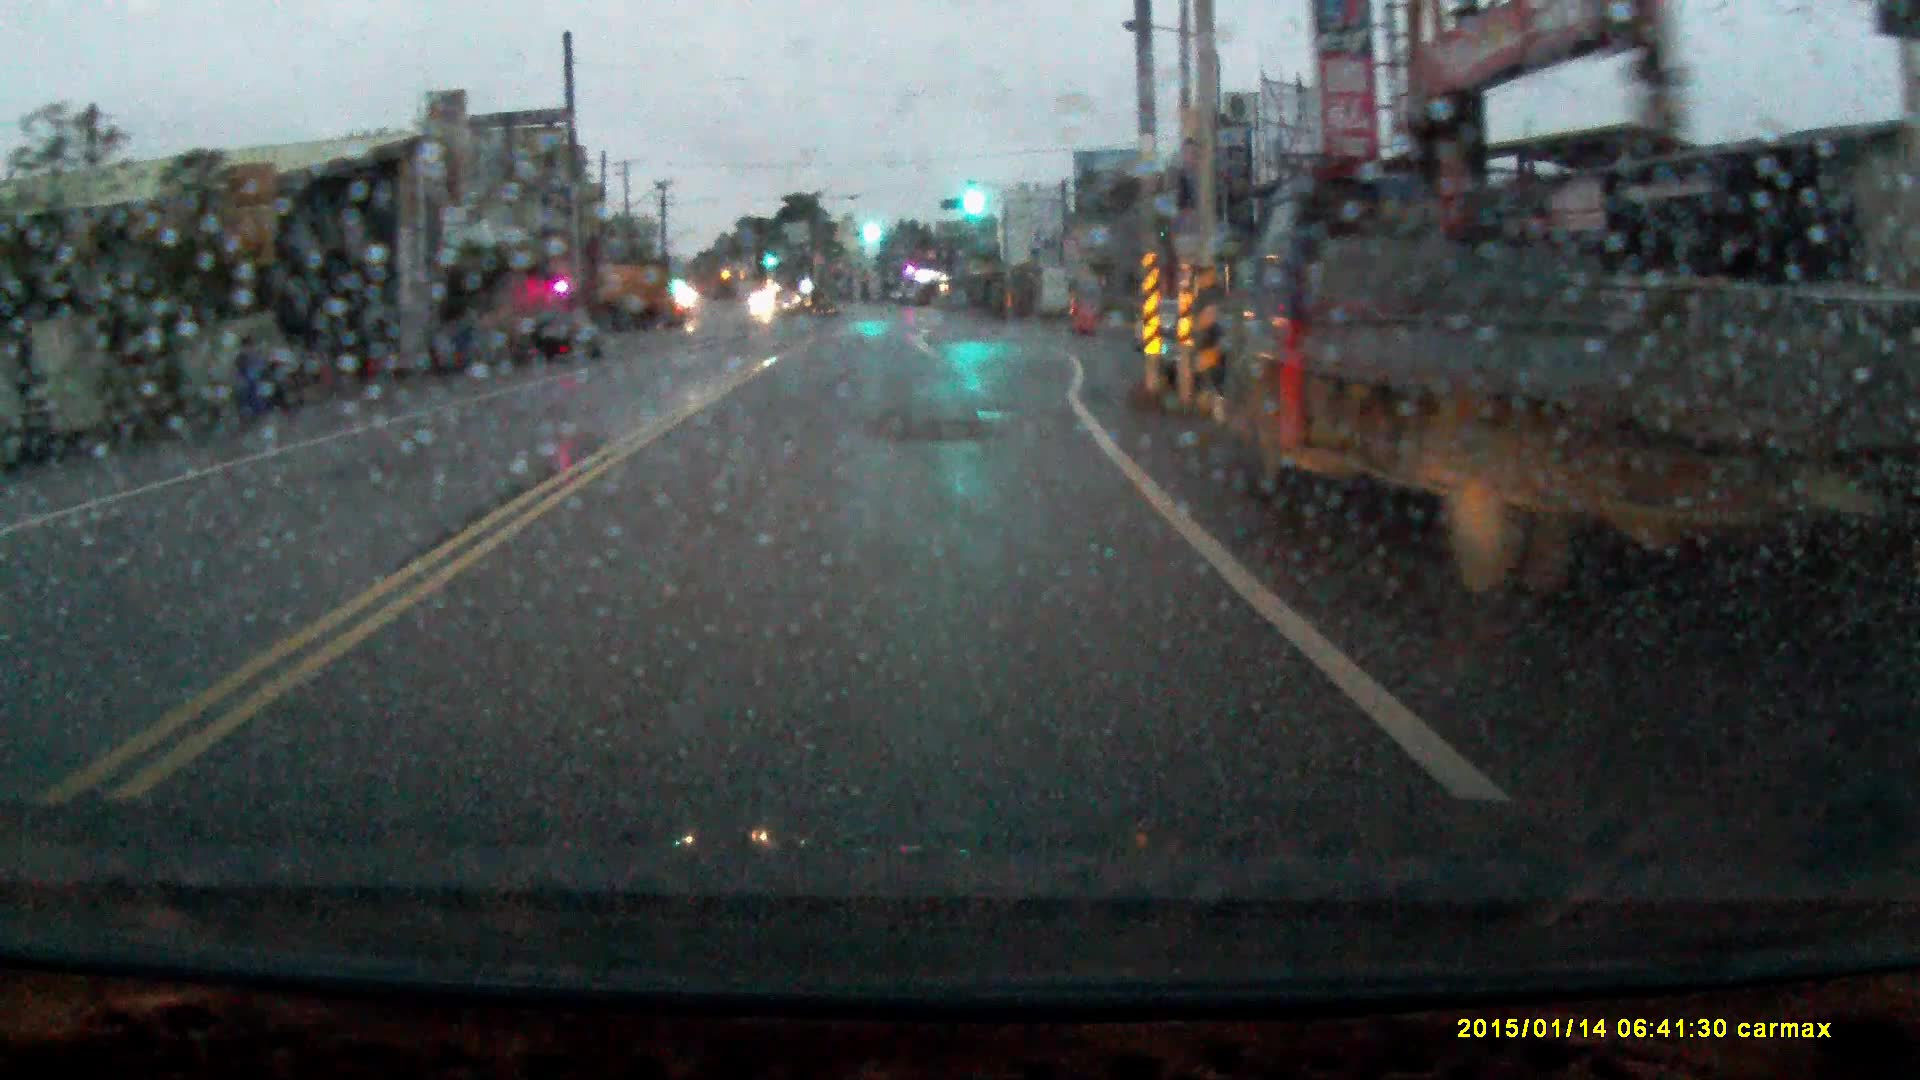vehicle: (1220, 186, 1920, 632), (574, 257, 676, 330), (524, 307, 603, 360)
